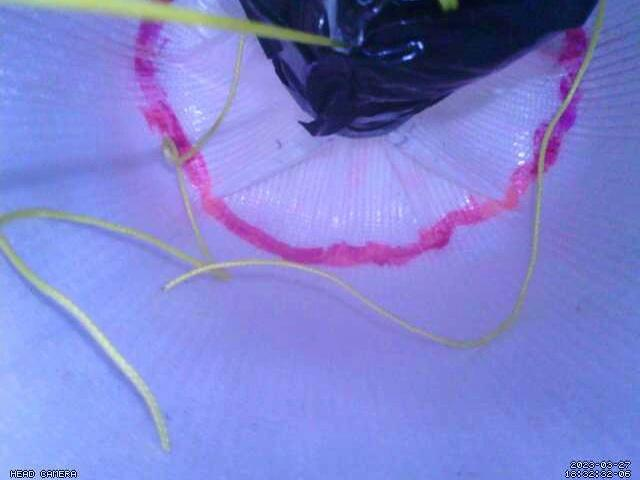head: (130, 21, 591, 269)
